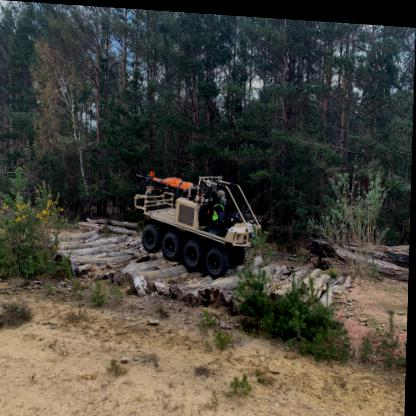UGV: (135, 183, 265, 276)
